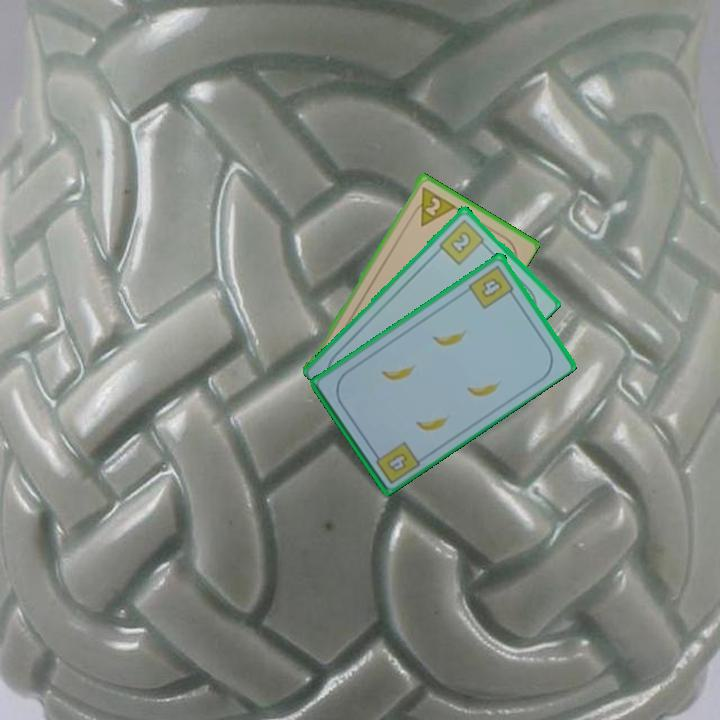2b: (436, 215, 490, 267)
2p: (407, 183, 457, 229)
4b: (368, 438, 423, 487), (465, 261, 518, 311)
